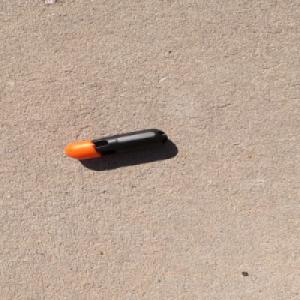PlasticPart: (63, 128, 168, 160)
